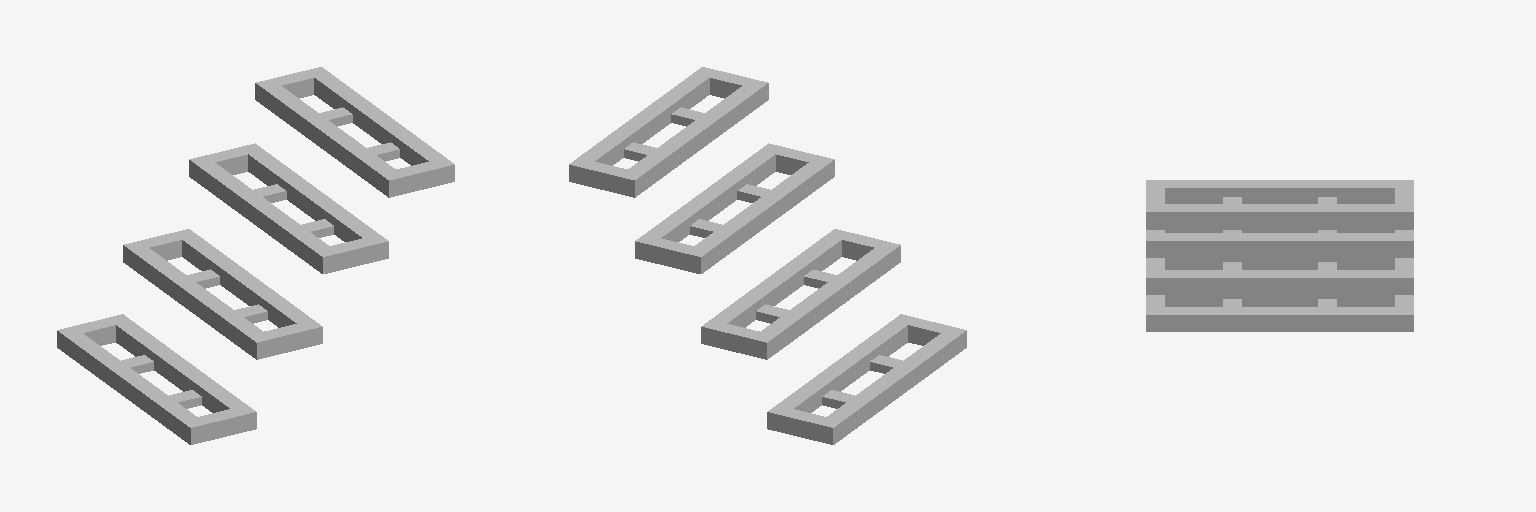
Rendered from stairs_west.obj.
3 views of the same model, side by side, from view 1: azimuth 30°, elevation 25°; view 2: azimuth 150°, elevation 25°; view 3: azimuth 270°, elevation 25° (orthographic).
Parts seen in each view (by area): view 1: stairs_west; view 2: stairs_west; view 3: stairs_west.
Part boxes in pixels (left/top/right/bottom): stairs_west: left=57, top=67, right=454, bottom=444; stairs_west: left=569, top=67, right=966, bottom=444; stairs_west: left=1146, top=180, right=1413, bottom=331.
Size of the model in its own units: 0.9998 by 0.781 by 0.8748.